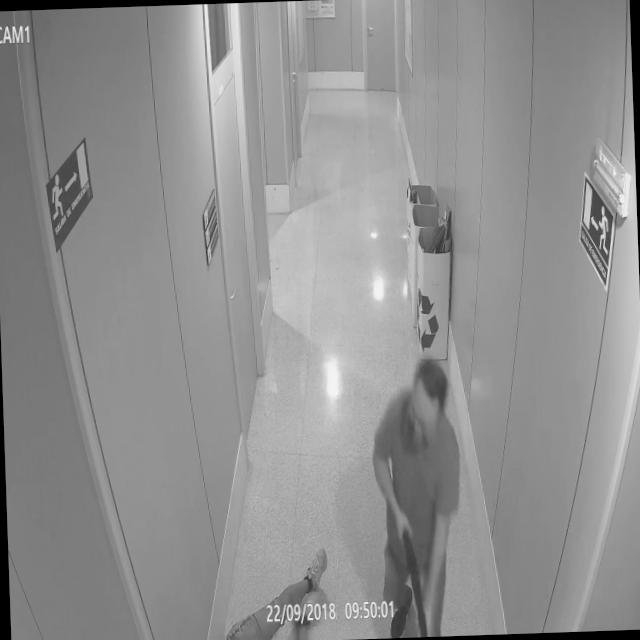gun: (399, 522, 428, 637)
person with a gun: (364, 349, 468, 638)
